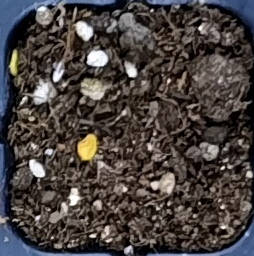pepper seed: (26, 52, 125, 214), (0, 9, 17, 87)
